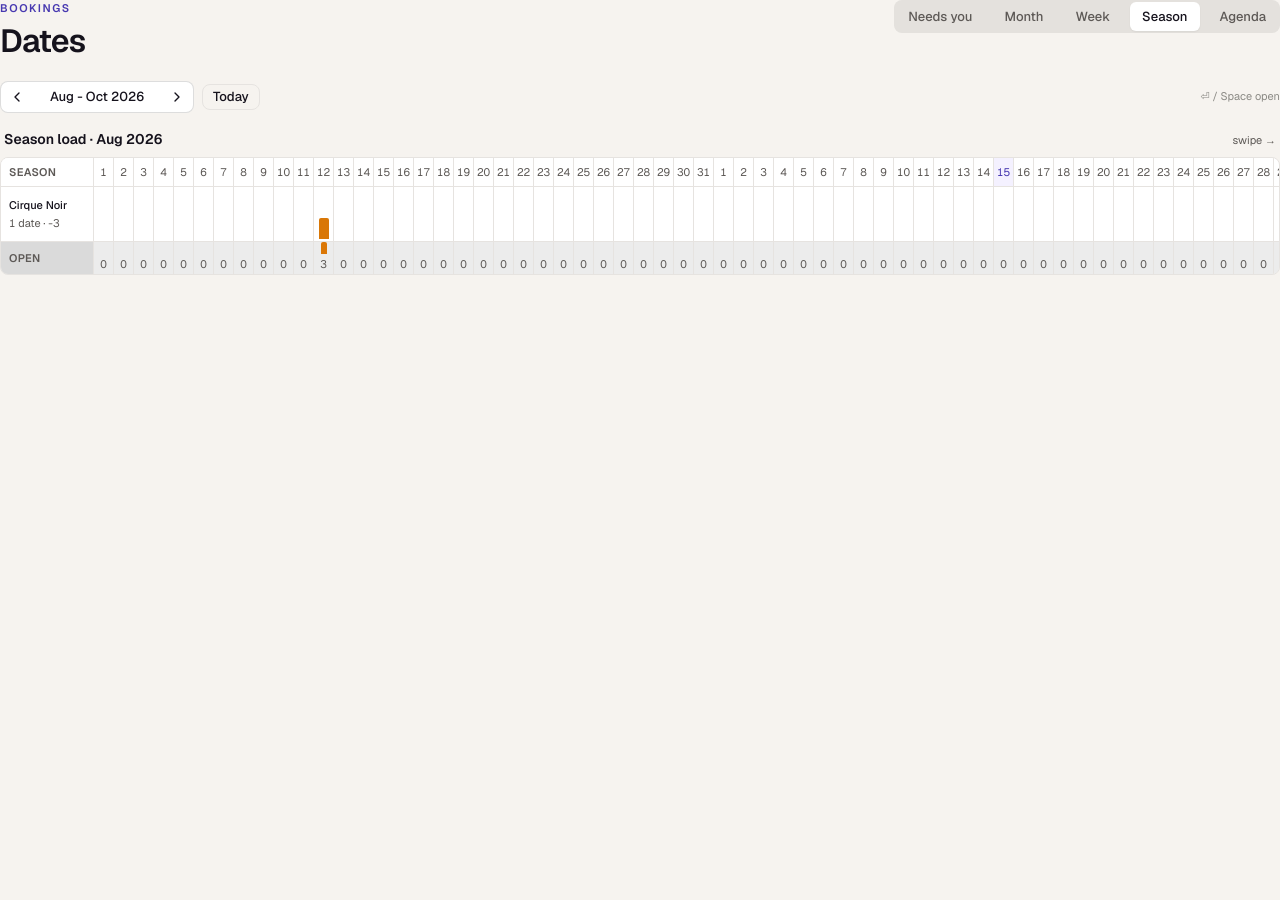
Test case: CalendarSurface — mobile shell (useIsMobile true) › producer Season renders SeasonStripMobile, and a cell tap opens the day sheet for that date
Check: the element with test id "season-strip-mobile" is shown, box [0,128,1279,275]
Click the button with test id "season-strip-cell-show-season-2026-08-12" at {"x": 323, "y": 214}, box [313,187,333,241]
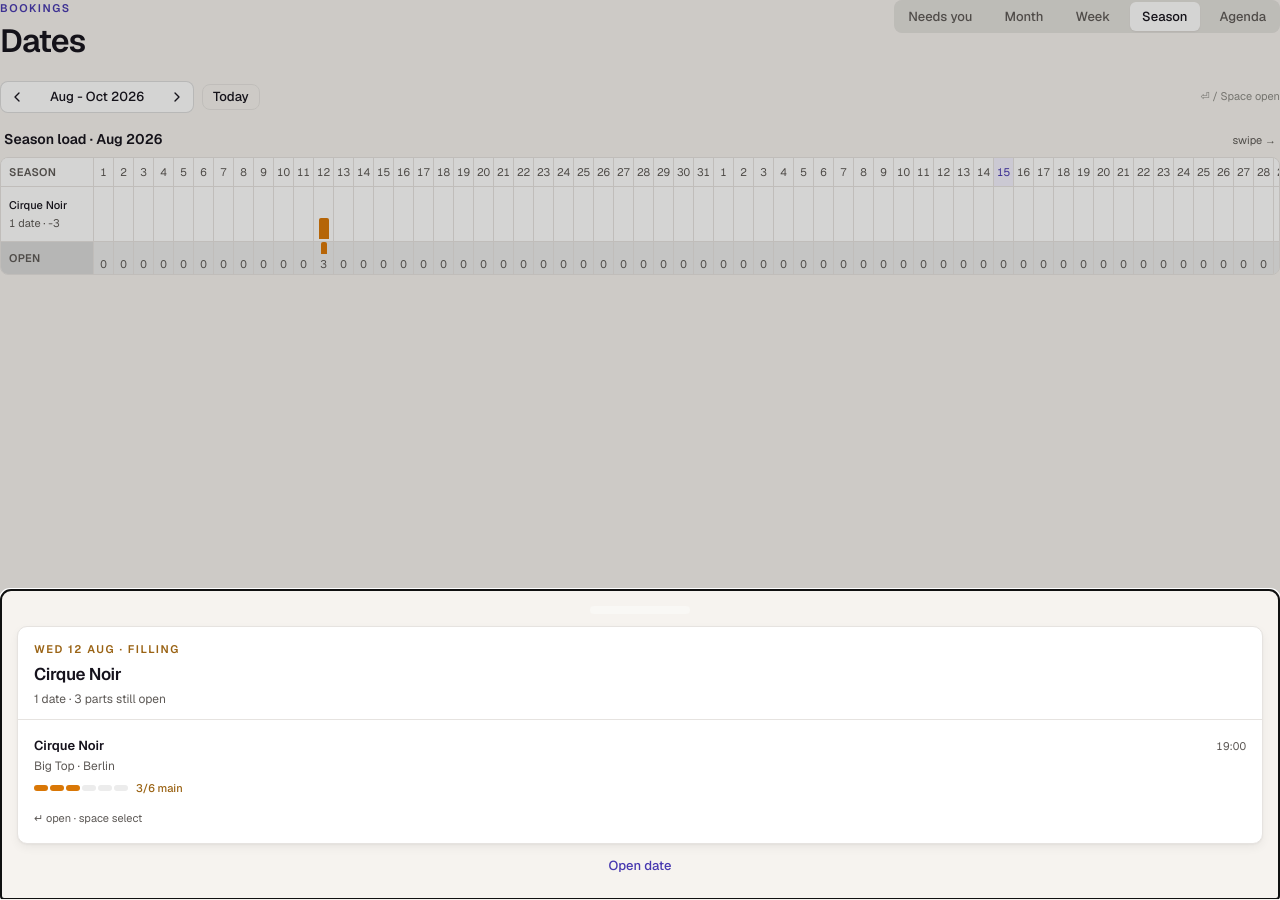
Check: the dialog with test id "calendar-day-sheet" is shown, box [0,589,1279,899]
Check: the dialog with test id "calendar-day-sheet" shows "Cirque Noir", box [34,662,121,684]
